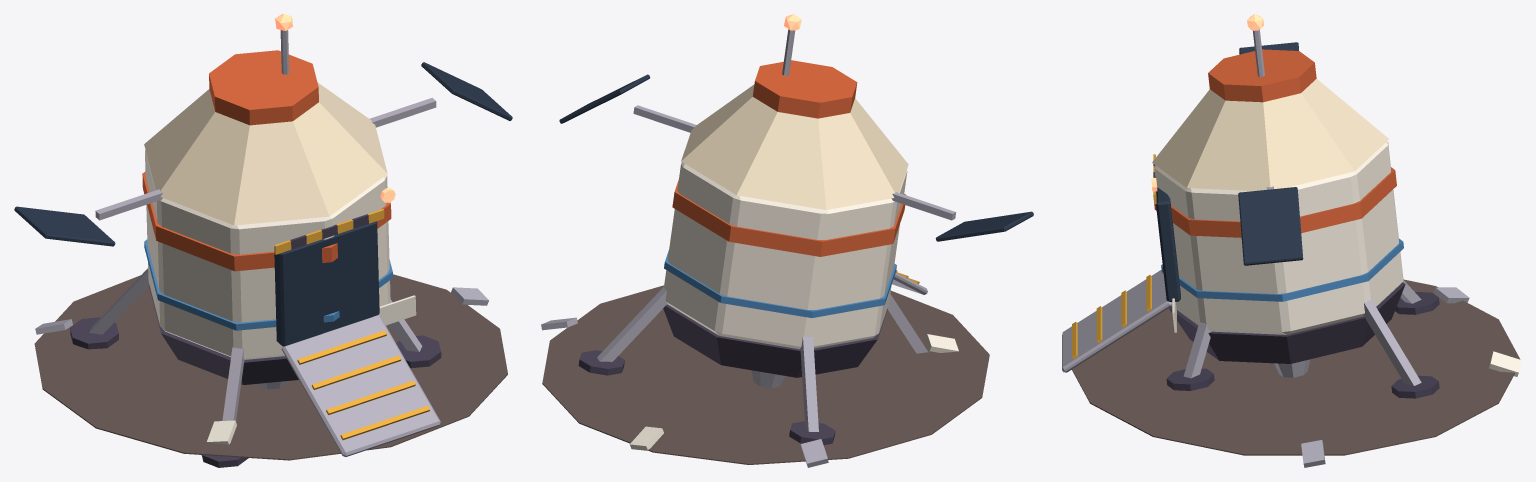
Rendered from MOONSHIFT_ENV_Cargo_Lander_Damaged.glb.
The picture shows the model from 3 angles, left to right: view 1: azimuth 30°, elevation 25°; view 2: azimuth 150°, elevation 25°; view 3: azimuth 270°, elevation 25°; orthographic projection. The views are drawn at different scales.
Visible parts, largest first — view 1: Lander_Scorch, Lander_Top, Lander_Hull, Lander_Ramp, Lander_Doorway, Lander_Nose, Lander_Bottom, Lander_HullStripe, Lander_Solar-1, Lander_HullStripe2, Lander_Solar1, Lander_DoorHazard (+14 smaller); view 2: Lander_Scorch, Lander_Hull, Lander_Top, Lander_Bottom, Lander_Nose, Lander_HullStripe, Lander_HullStripe2, Lander_Leg0, Lander_Leg1, Lander_Solar-1, Lander_Foot0, Lander_Foot1 (+6 smaller); view 3: Lander_Scorch, Lander_Hull, Lander_Top, Lander_Bottom, Lander_Solar1, Lander_Nose, Lander_Ramp, Lander_HullStripe, Lander_HullStripe2, Lander_Doorway, Lander_Leg0, Lander_Leg3 (+5 smaller).
Boxes of the visible parts, x1,y1,x2,y2 form: Lander_Scorch: [34, 274, 507, 460]; Lander_Top: [144, 82, 387, 225]; Lander_Hull: [145, 150, 390, 359]; Lander_Ramp: [281, 315, 440, 456]; Lander_Doorway: [274, 221, 379, 346]; Lander_Nose: [209, 50, 318, 125]; Lander_Bottom: [148, 285, 298, 384]; Lander_HullStripe: [142, 172, 391, 271]; Lander_Solar-1: [14, 206, 115, 246]; Lander_HullStripe2: [144, 239, 392, 330]; Lander_Solar1: [421, 62, 512, 120]; Lander_DoorHazard: [274, 209, 384, 254]; Lander_Scorch: [542, 285, 989, 464]; Lander_Hull: [664, 162, 907, 349]; Lander_Top: [681, 84, 908, 209]; Lander_Bottom: [663, 304, 887, 377]; Lander_Nose: [752, 60, 857, 118]; Lander_HullStripe: [672, 180, 906, 256]; Lander_HullStripe2: [664, 250, 896, 317]; Lander_Leg0: [597, 287, 667, 361]; Lander_Leg1: [800, 336, 818, 431]; Lander_Solar-1: [935, 211, 1033, 241]; Lander_Foot0: [578, 350, 624, 375]; Lander_Foot1: [789, 421, 835, 445]; Lander_Scorch: [1072, 279, 1520, 455]; Lander_Hull: [1154, 141, 1403, 334]; Lander_Top: [1152, 78, 1388, 190]; Lander_Bottom: [1169, 282, 1405, 363]; Lander_Solar1: [1238, 187, 1303, 265]; Lander_Nose: [1208, 49, 1316, 102]; Lander_Ramp: [1062, 269, 1172, 372]; Lander_HullStripe: [1153, 167, 1396, 237]; Lander_HullStripe2: [1161, 238, 1403, 301]; Lander_Doorway: [1156, 187, 1180, 302]; Lander_Leg0: [1363, 299, 1421, 385]; Lander_Leg3: [1183, 322, 1211, 378].
Bounding box in the file's own units: 4.38 × 3.39 × 3.85.
